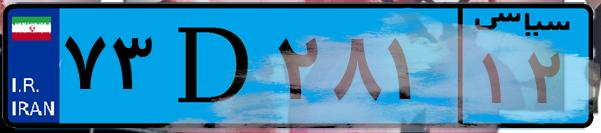1: (385, 28, 445, 110), (475, 38, 525, 113)
2: (270, 28, 330, 110), (525, 38, 570, 115)
3: (110, 28, 158, 98)
7: (57, 26, 110, 100)
8: (330, 28, 385, 110)
D: (158, 12, 270, 120)
